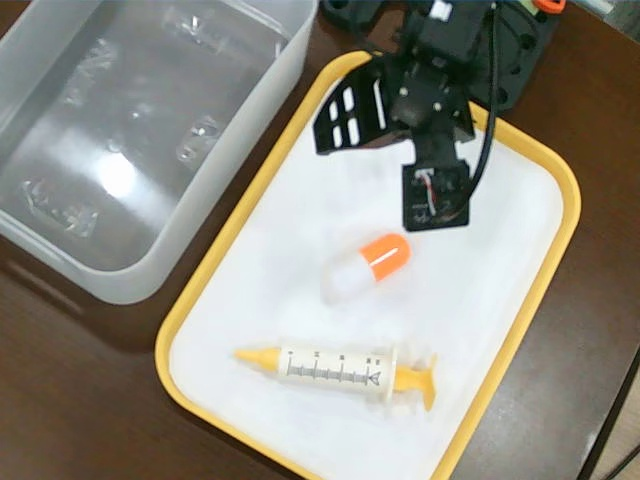pill: (318, 233, 414, 301)
syringe: (230, 334, 446, 415)
